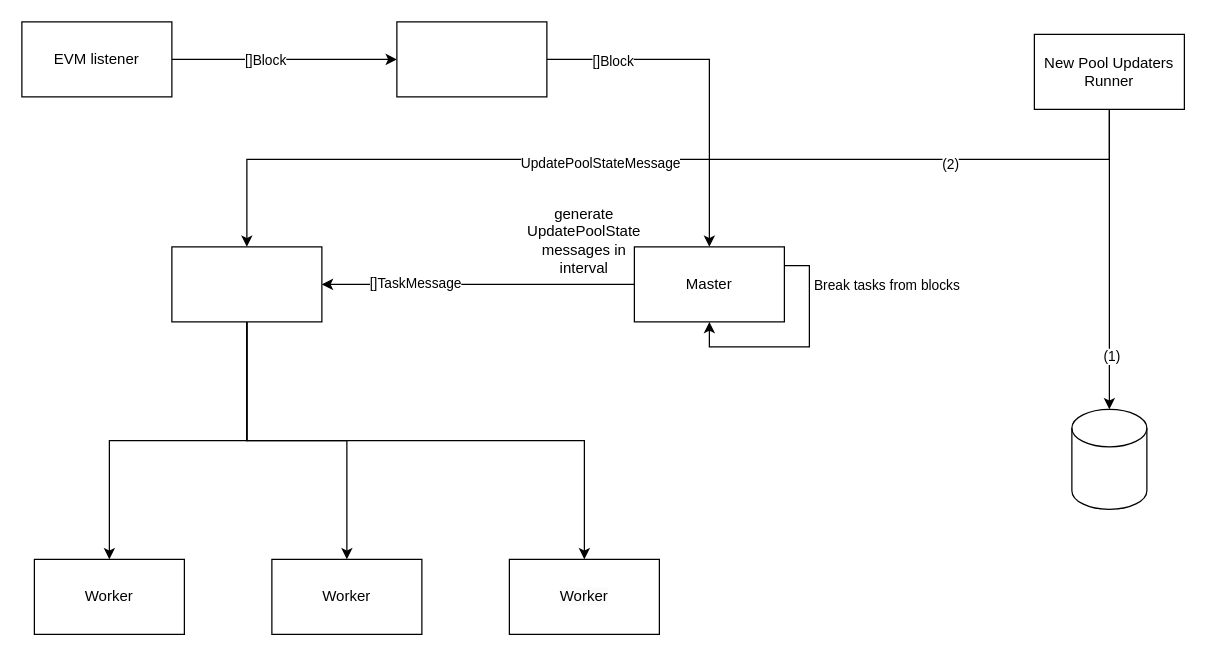
The diagram is 1206 pixels wide and 656 high, and some of its shapes have lost their labels. Here are the shapes that lost their labels. From the top down, the centre of each, then its label:
At pixel 471 59: "Message Broker (Redis Streams)".
At pixel 246 284: "Task Queue (Redis Streams)".
At pixel 1109 458: "Datastore".
